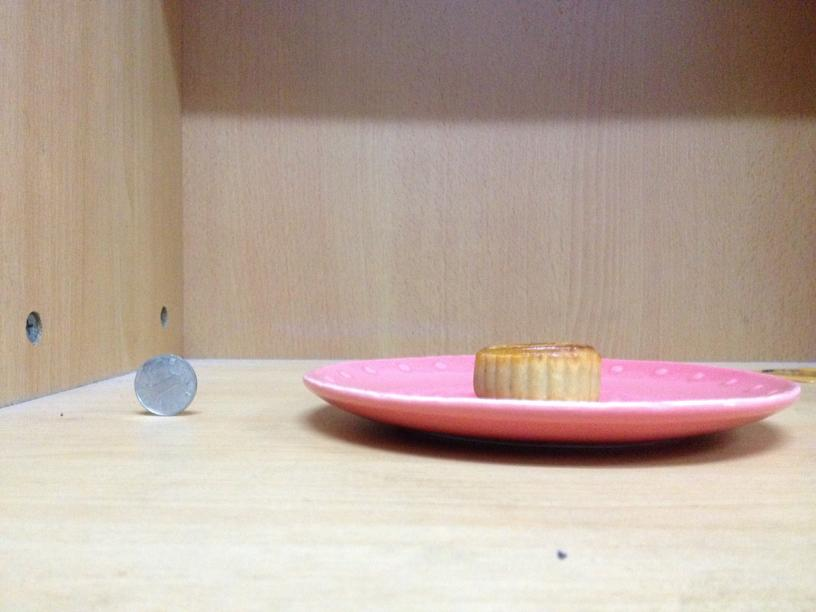coin: (136, 356, 196, 412)
mooncake: (474, 345, 595, 403)
